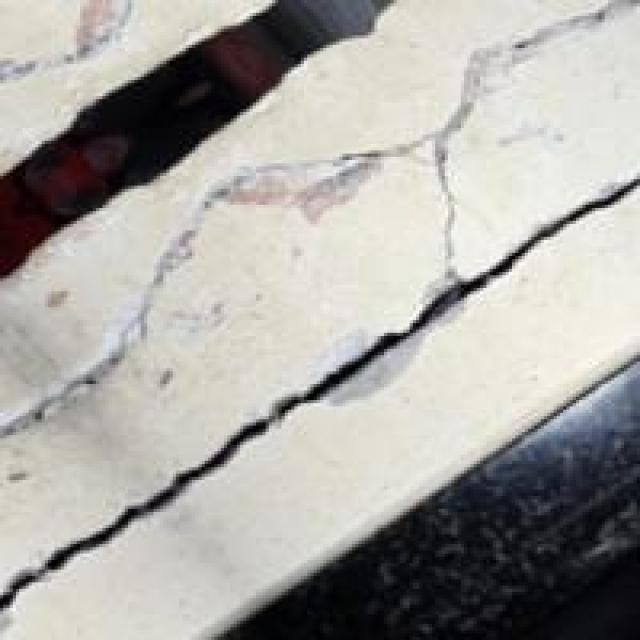crack: (3, 288, 458, 566)
